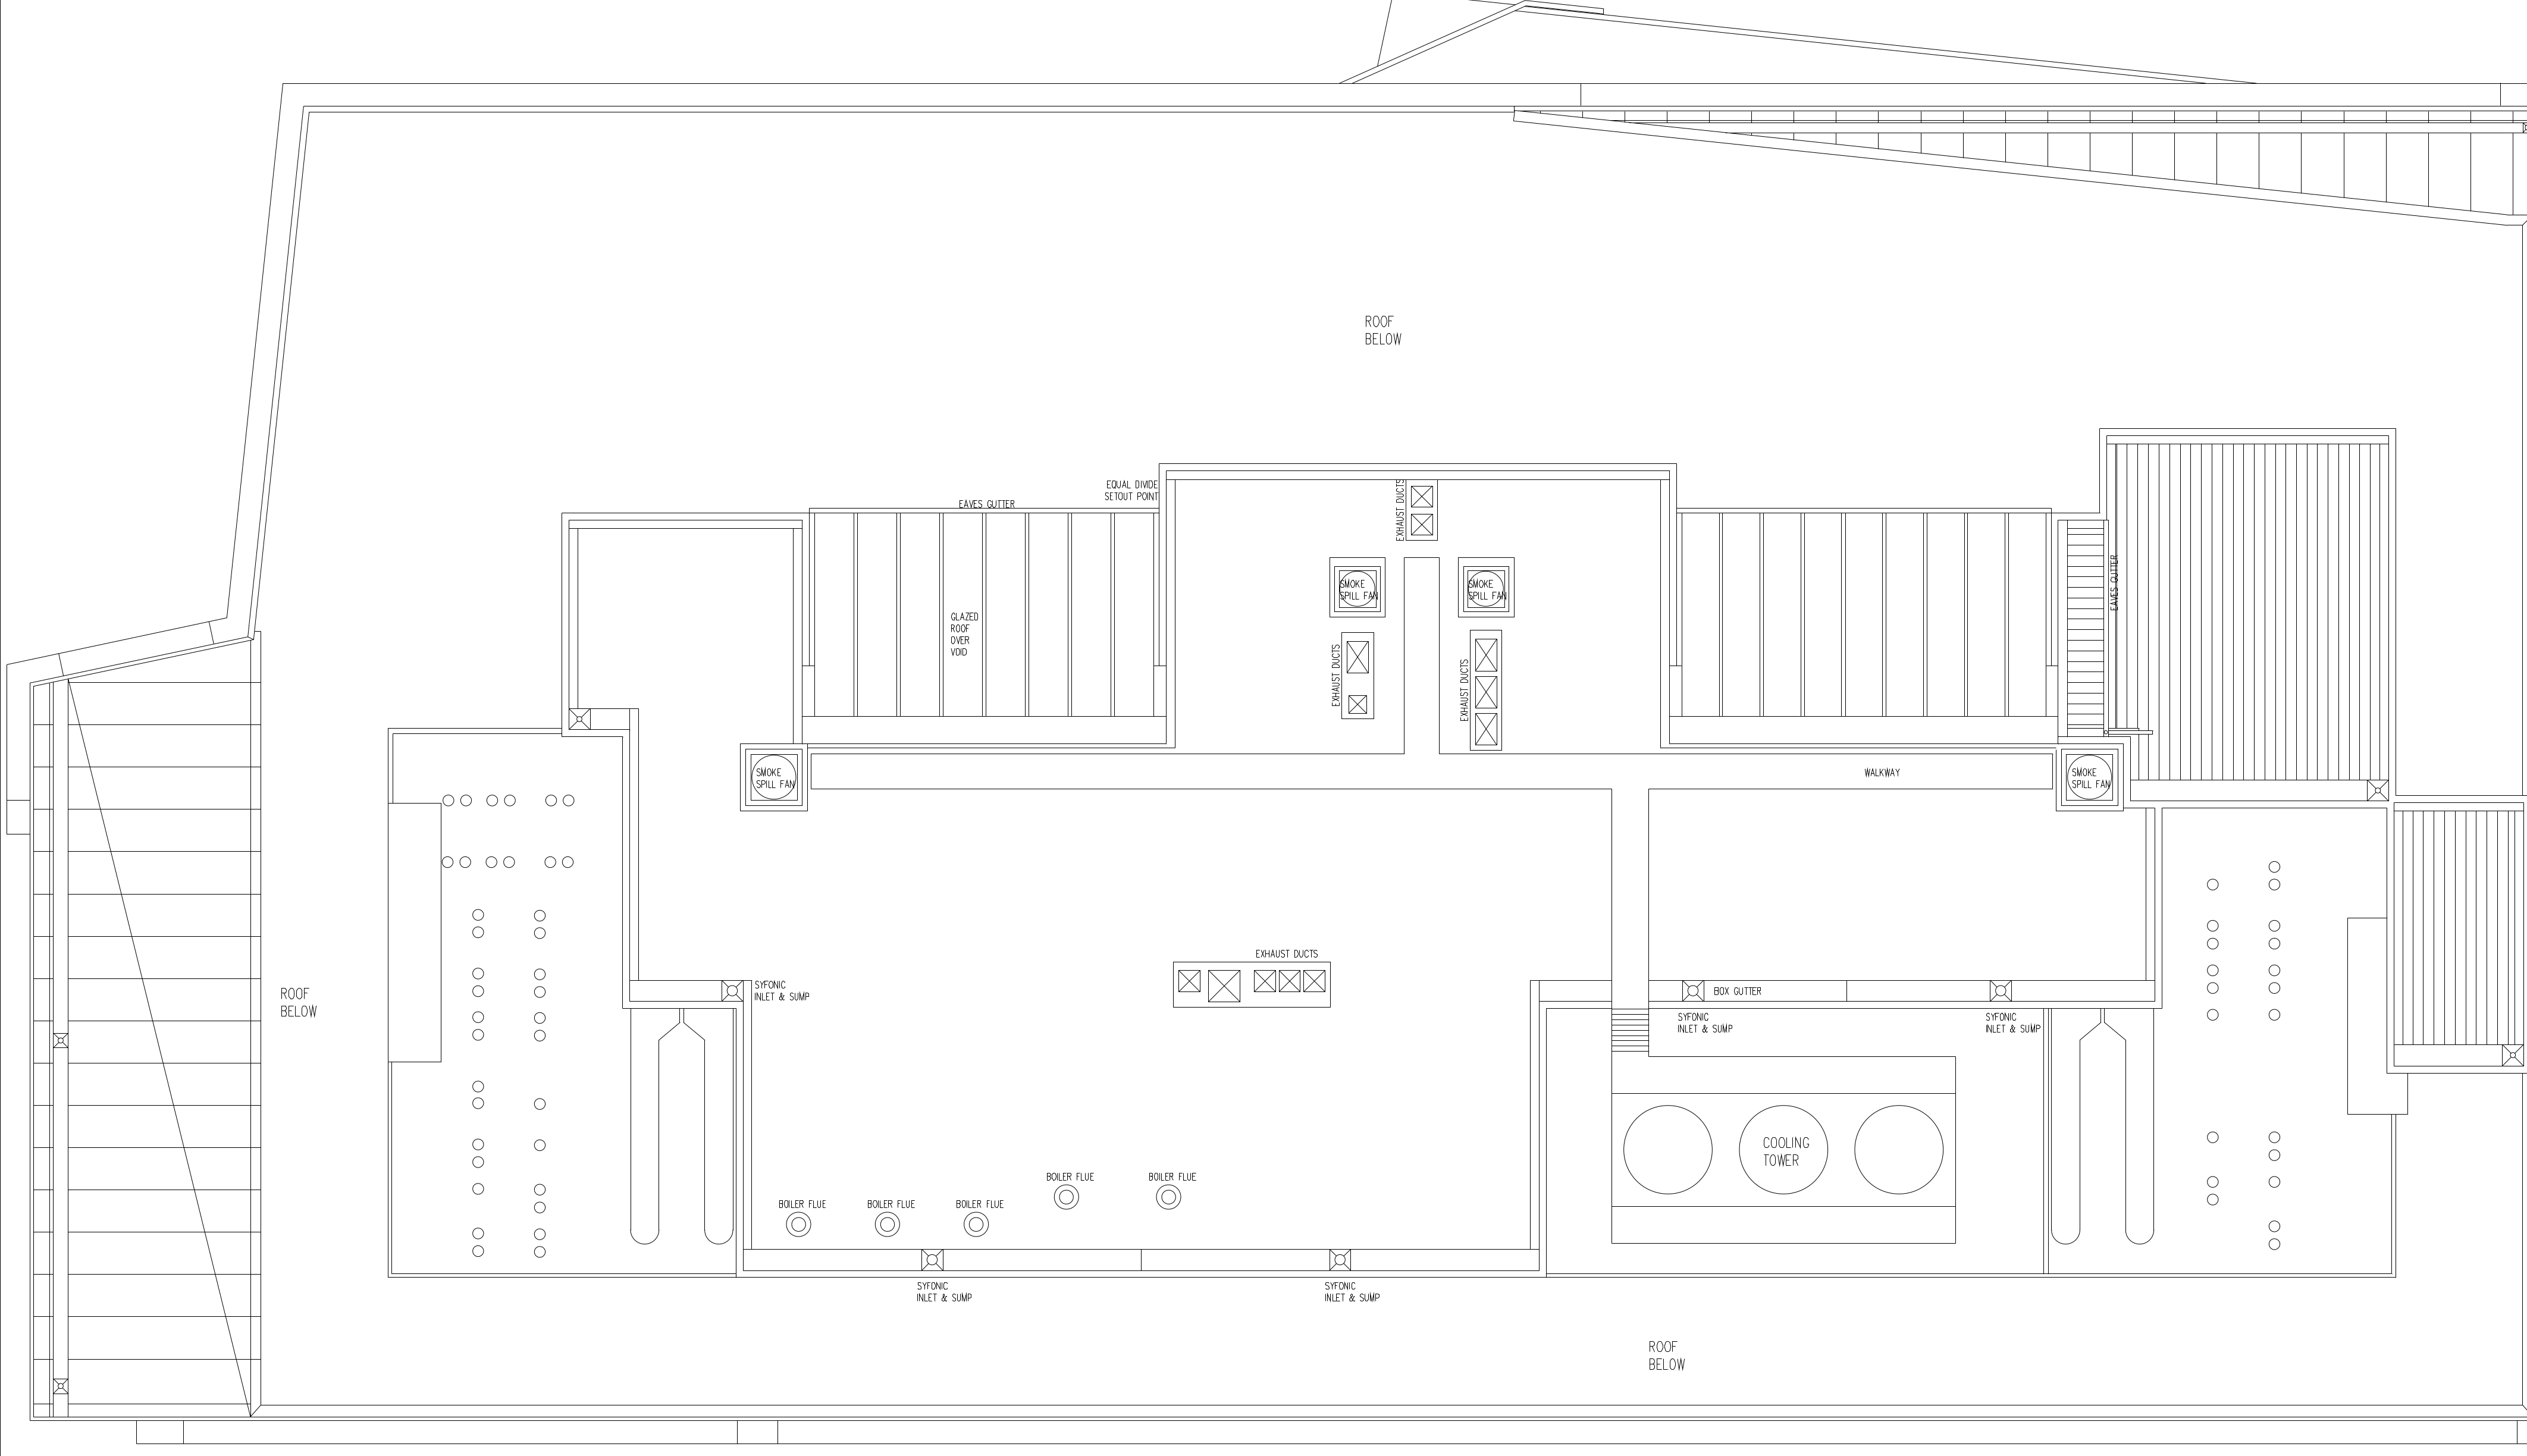room: (1175, 481, 1402, 753), (1437, 479, 1659, 753)
